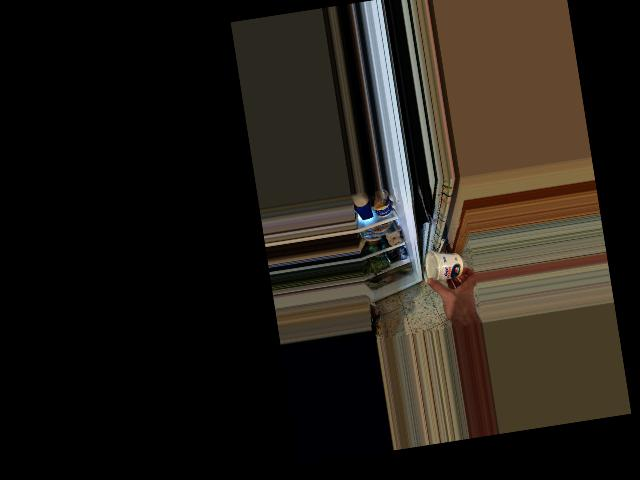cotage: (421, 248, 465, 285)
